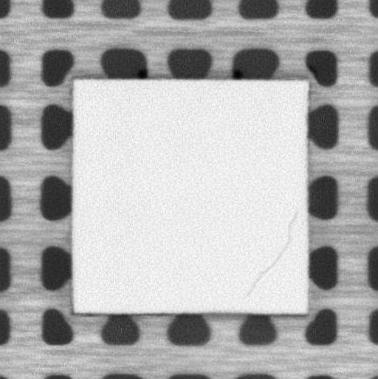DIE_CRACK: (246, 210, 299, 299)
